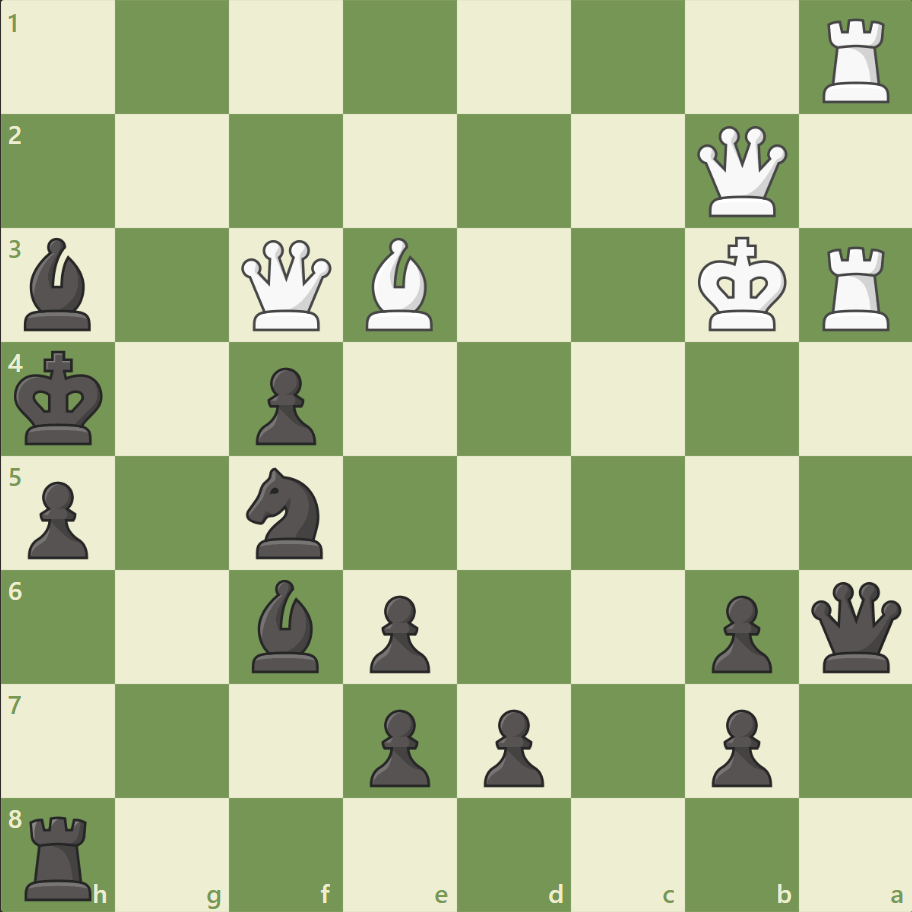B: (358, 233, 442, 336)
K: (692, 231, 792, 339)
Q: (691, 122, 790, 222), (237, 236, 336, 335)
R: (814, 239, 897, 336), (814, 12, 897, 109)
b: (17, 233, 101, 336), (244, 574, 328, 676)
k: (11, 344, 111, 452)
n: (238, 461, 335, 564)
p: (701, 700, 776, 791), (474, 700, 549, 791), (701, 586, 776, 677), (20, 473, 95, 564), (247, 359, 322, 450), (361, 700, 435, 791), (361, 586, 435, 677)
q: (805, 576, 904, 676)
r: (19, 806, 102, 904)
